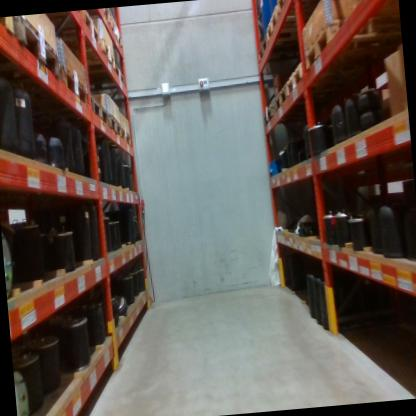pallet: (302, 13, 403, 75), (284, 51, 389, 102), (260, 1, 326, 58), (15, 13, 62, 81), (55, 10, 102, 53), (64, 40, 119, 73), (255, 35, 306, 66), (60, 64, 92, 108), (92, 9, 124, 49), (78, 65, 127, 91), (87, 89, 110, 127), (100, 107, 124, 140), (274, 84, 291, 121), (273, 0, 321, 13), (118, 126, 136, 151), (261, 107, 278, 132), (0, 17, 18, 39)
